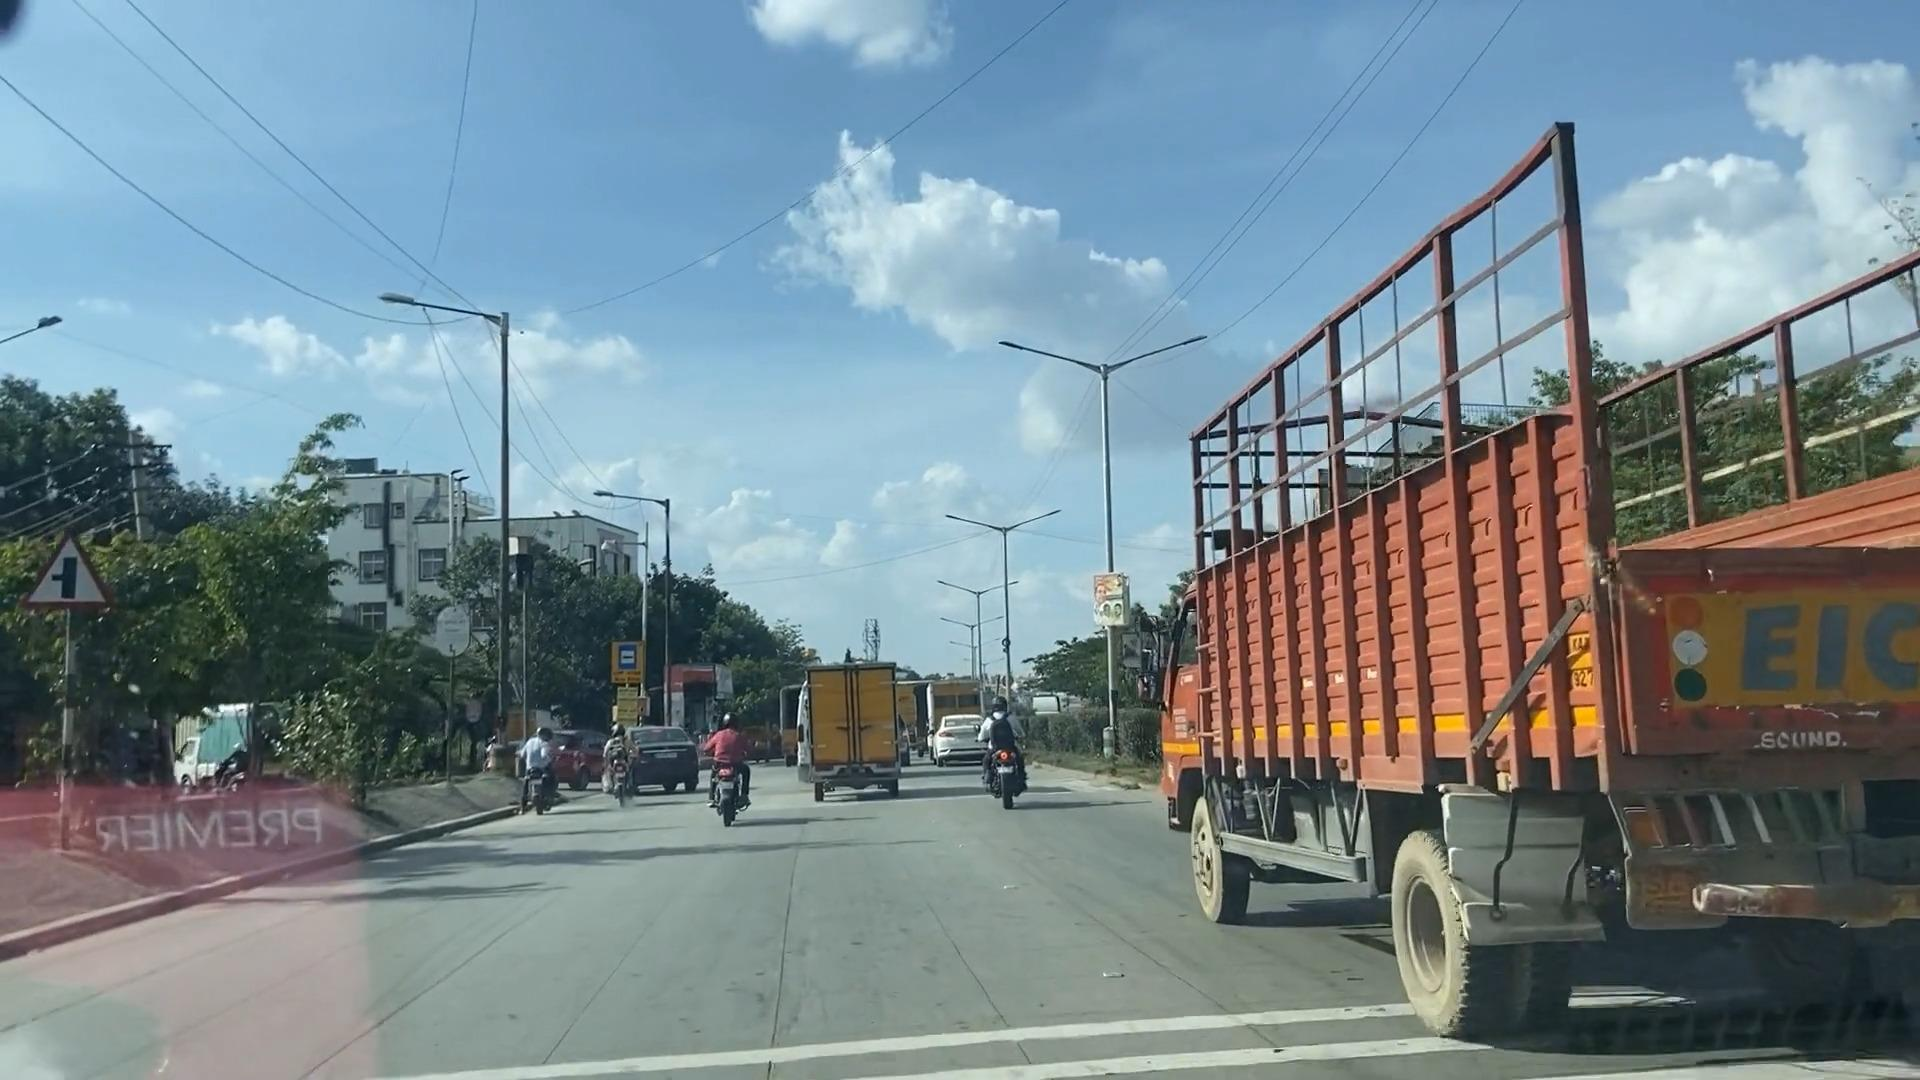HMV: (1138, 327, 1920, 1080), (789, 645, 920, 807)
LMV: (976, 696, 1029, 791), (716, 715, 748, 839)
